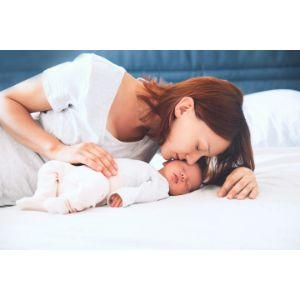sleep: (10, 158, 204, 211), (163, 132, 214, 163), (170, 163, 195, 194)
